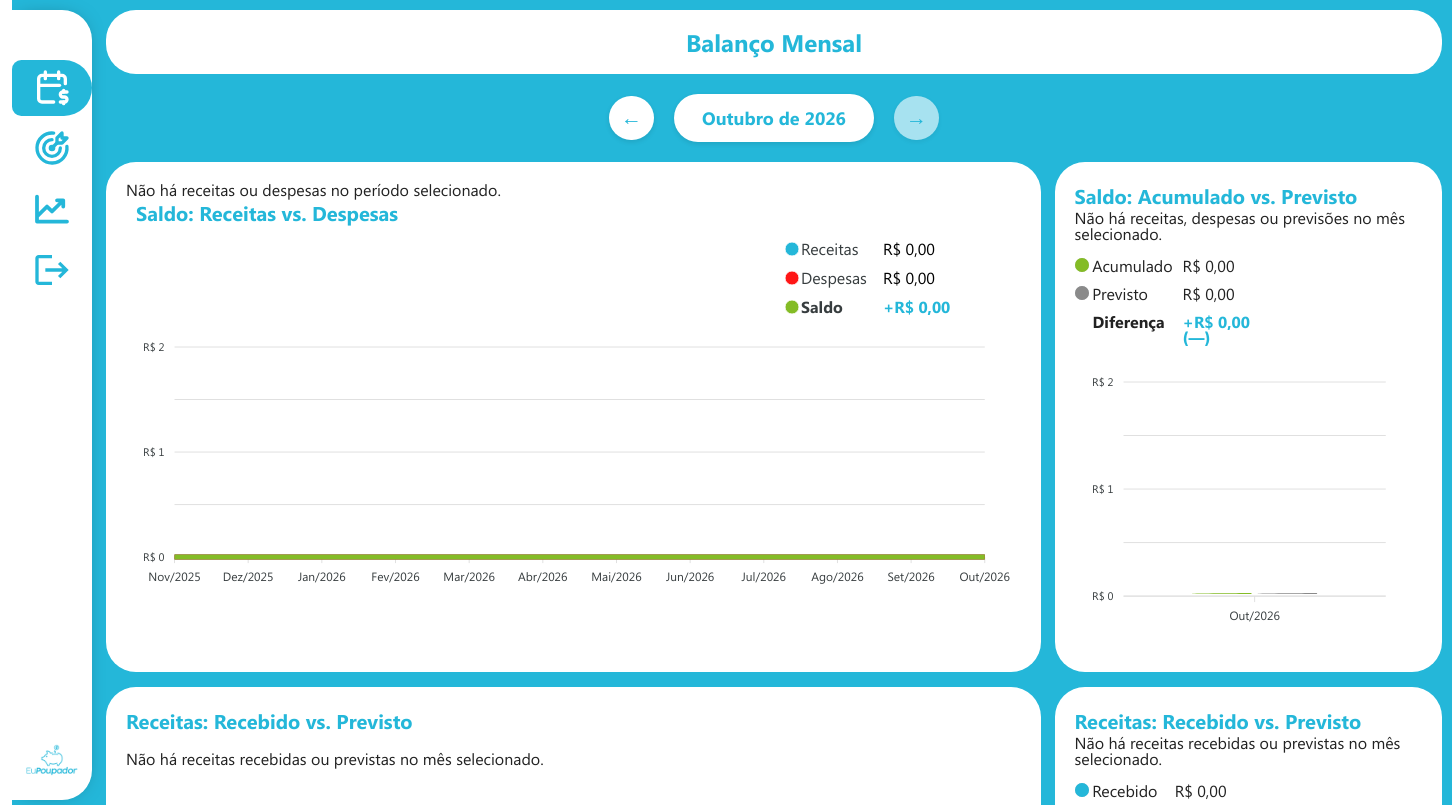
Test: falha no logout informa o problema e permite tentar novamente
Click the button named "Sair": (52, 272) left=12, top=243, right=92, bottom=301
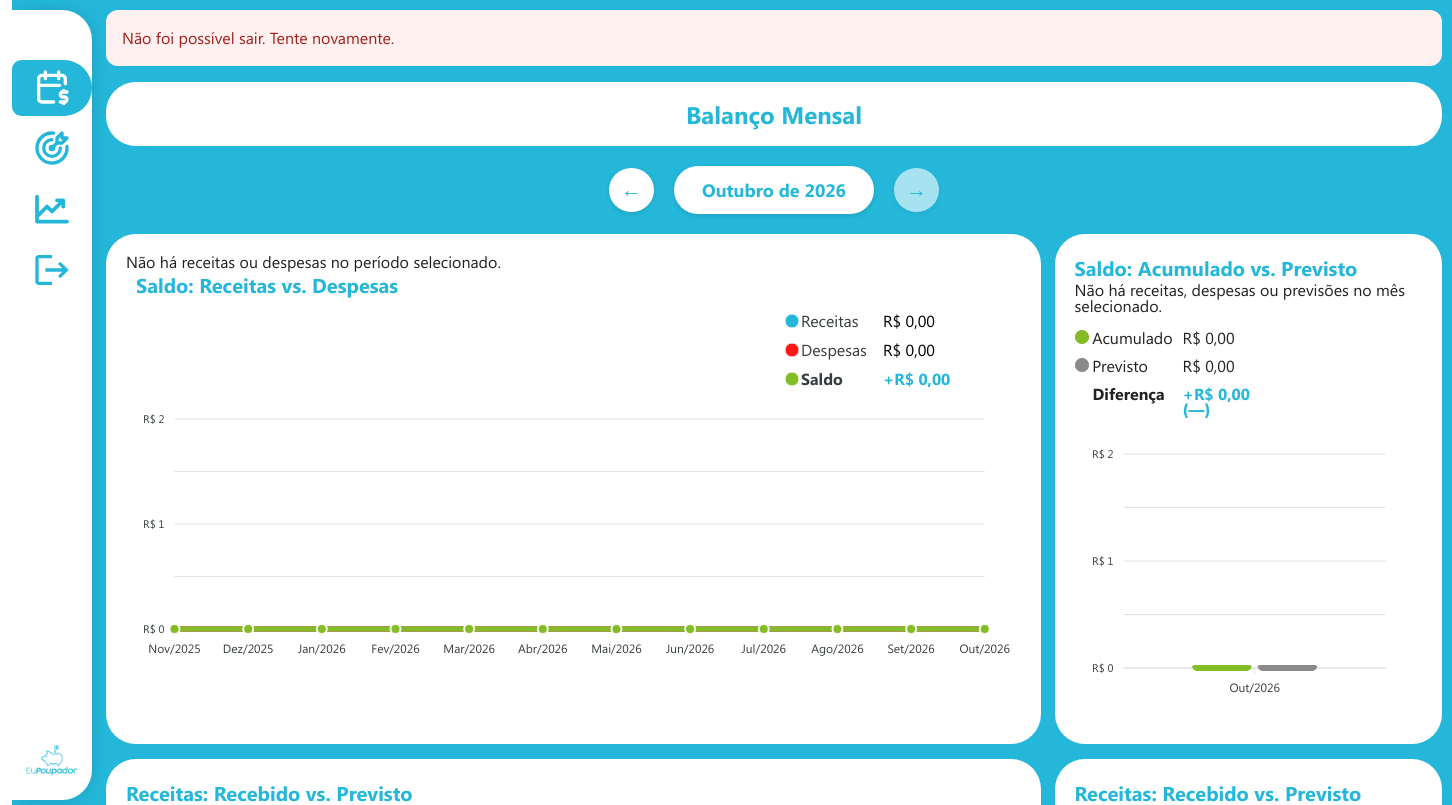
Result: the message "Não foi possível sair. Tente novamente." is shown at left=106, top=10, right=1442, bottom=66
